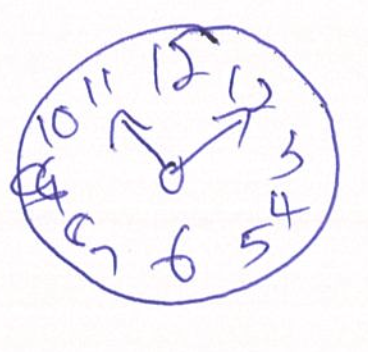1: (226, 61, 243, 106)
10: (32, 105, 81, 148)
11: (83, 66, 115, 109)
12: (151, 42, 210, 95)
2: (249, 73, 278, 113)
3: (270, 127, 305, 179)
4: (268, 189, 313, 231)
5: (239, 221, 275, 270)
6: (167, 221, 197, 284)
7: (90, 244, 121, 278)
8: (62, 212, 95, 249)
9: (7, 160, 67, 218)
contour: (15, 21, 342, 308)
hand: (110, 105, 251, 196)
top_left_arrow: (111, 110, 166, 170)
top_right_arrow: (171, 107, 252, 172)
